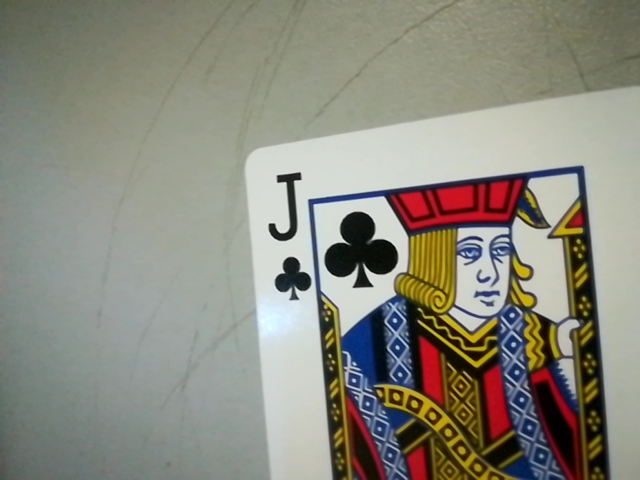mh j: (261, 160, 318, 307)
